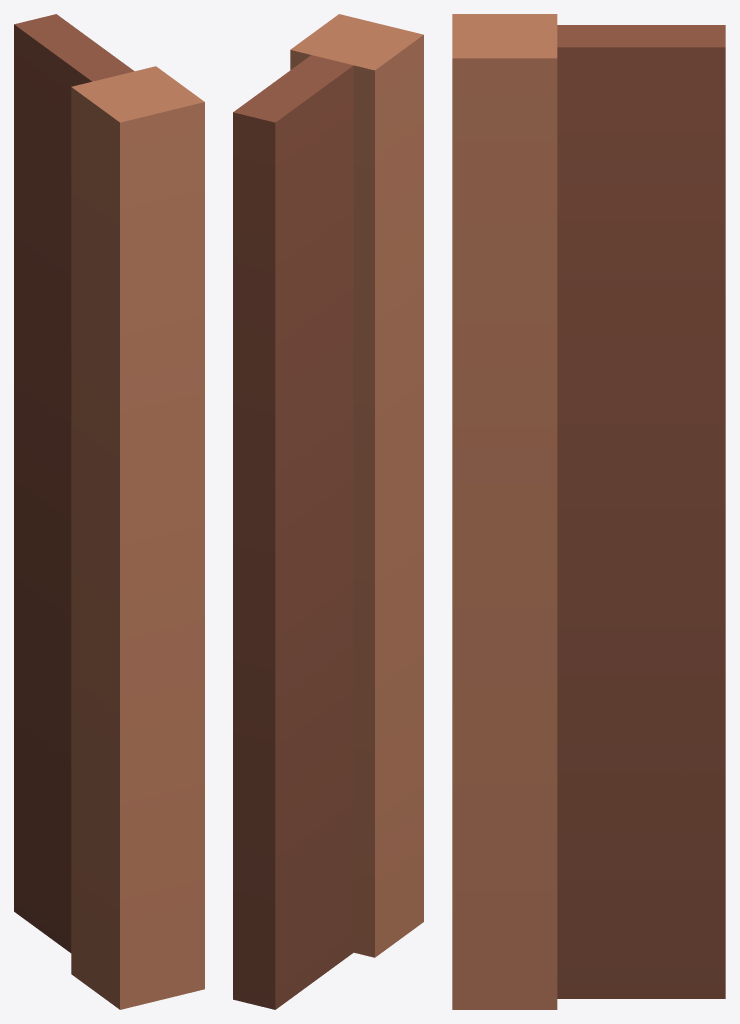
The model's file is wall-kn-wall-wood-side.glb.
The picture shows the model from 3 angles, left to right: view 1: azimuth 30°, elevation 25°; view 2: azimuth 150°, elevation 25°; view 3: azimuth 270°, elevation 25°; orthographic projection. The views are drawn at different scales.
Parts seen in each view (by area): view 1: wall-wood-side; view 2: wall-wood-side; view 3: wall-wood-side.
Part boxes in pixels (left/top/right/bottom): wall-wood-side: left=14, top=14, right=204, bottom=1009; wall-wood-side: left=233, top=14, right=423, bottom=1009; wall-wood-side: left=452, top=14, right=725, bottom=1009.
Size of the model in its own units: 0.3 by 3 by 0.78.
Materials: 1 (1 with a texture image).
